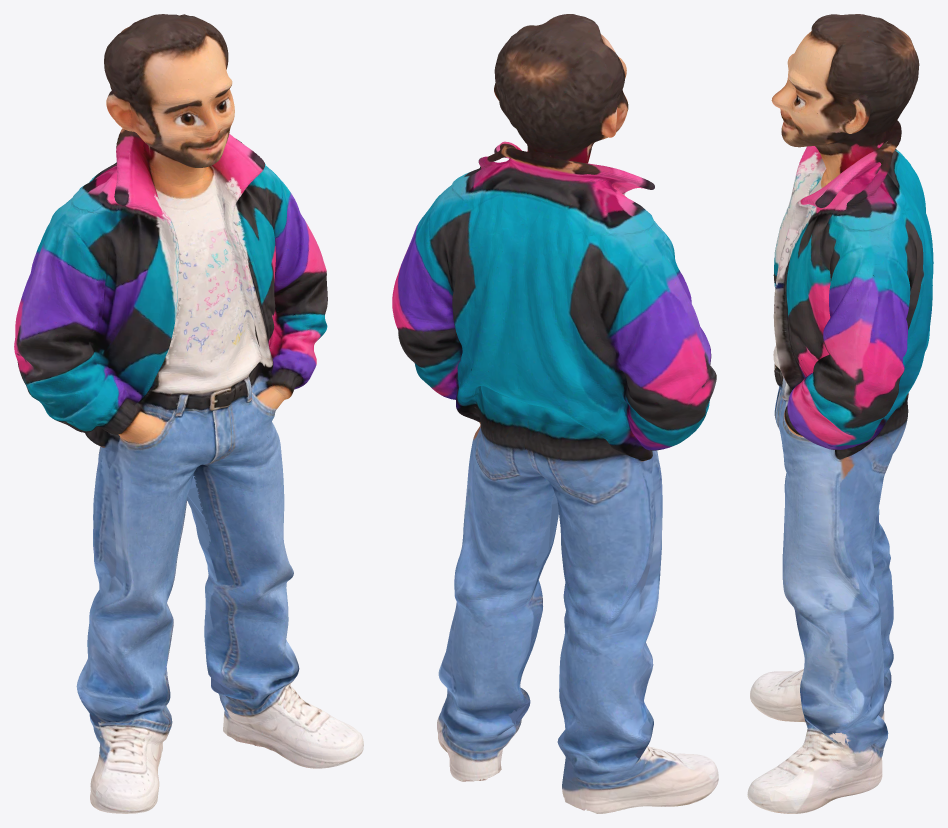
Rendered from david.gltf.
3 renders of one model, left to right at view 1: azimuth 30°, elevation 25°; view 2: azimuth 150°, elevation 25°; view 3: azimuth 270°, elevation 25°, orthographic. The views are drawn at different scales.
Parts seen in each view (by area): view 1: David | textured character; view 2: David | textured character; view 3: David | textured character.
Boxes of the visible parts, x1,y1,x2,y2 form: David | textured character: (14,14,363,813); David | textured character: (392,14,718,813); David | textured character: (747,14,933,813).
Bounding box in the file's own units: 0.7682 × 1.8 × 0.4159.
Materials: 1 (1 with a texture image).
